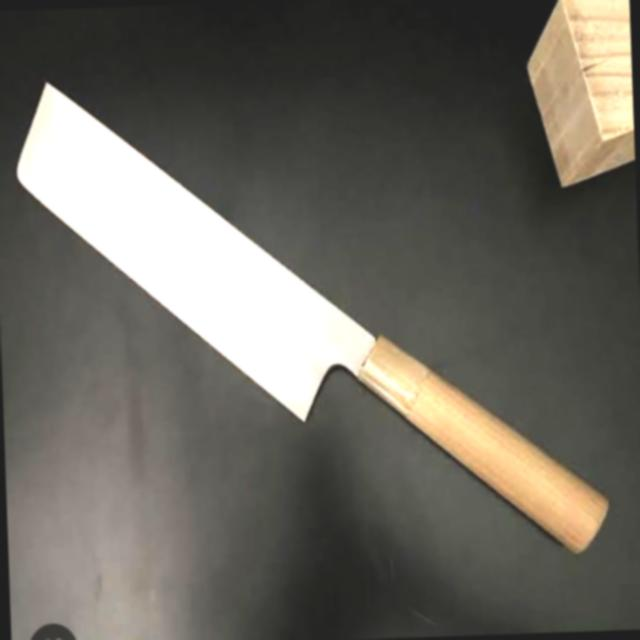knife: (11, 62, 615, 579)
